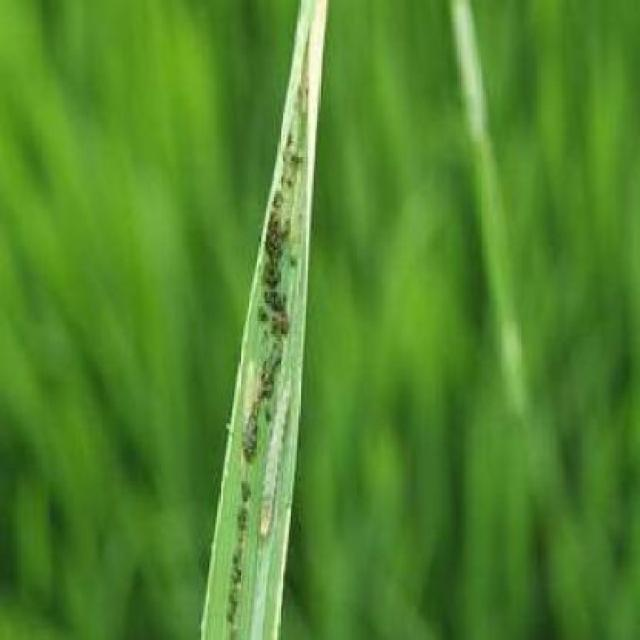leaf-folder: (243, 350, 311, 598), (266, 89, 337, 263)
